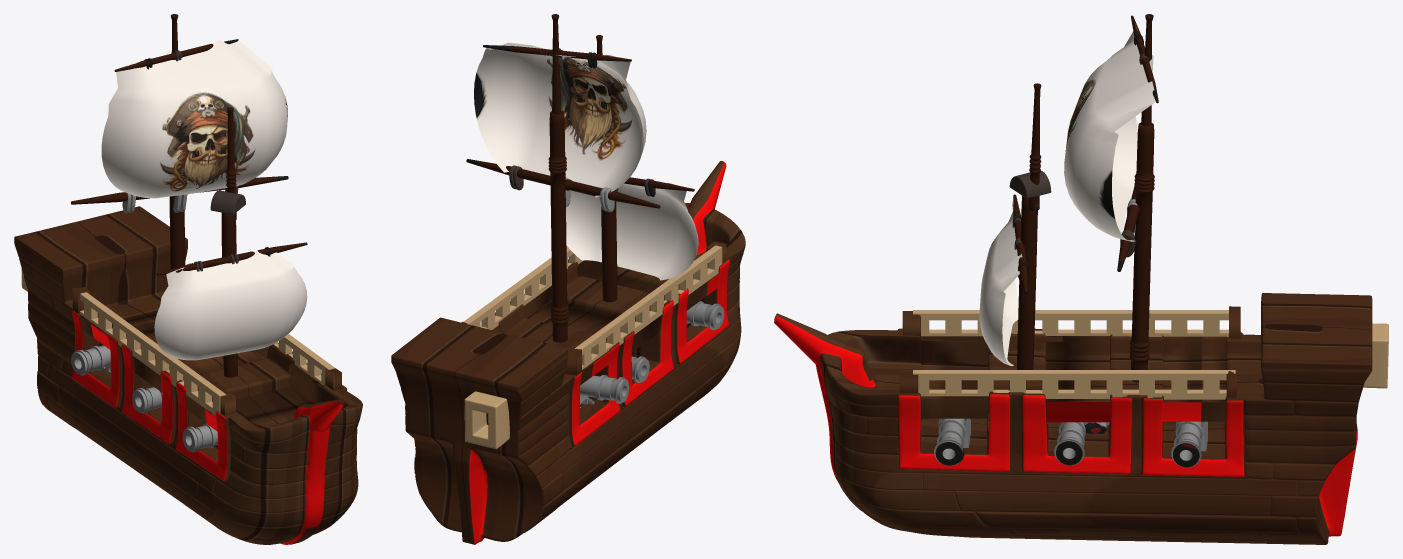
File: Enemy 1.fbx
3 views of the same model, side by side, from view 1: azimuth 30°, elevation 25°; view 2: azimuth 150°, elevation 25°; view 3: azimuth 270°, elevation 25° (orthographic). The views are drawn at different scales.
Visible parts, largest first — view 1: pasted__polySurface221; view 2: pasted__polySurface221; view 3: pasted__polySurface221.
Part boxes in pixels (<box>): pasted__polySurface221: <box>14,14,362,544</box>; pasted__polySurface221: <box>391,14,745,544</box>; pasted__polySurface221: <box>774,14,1388,544</box>.
Size of the model in its own units: 3.66 by 7.89 by 8.49.
